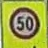limite 50: (9, 6, 40, 39)
